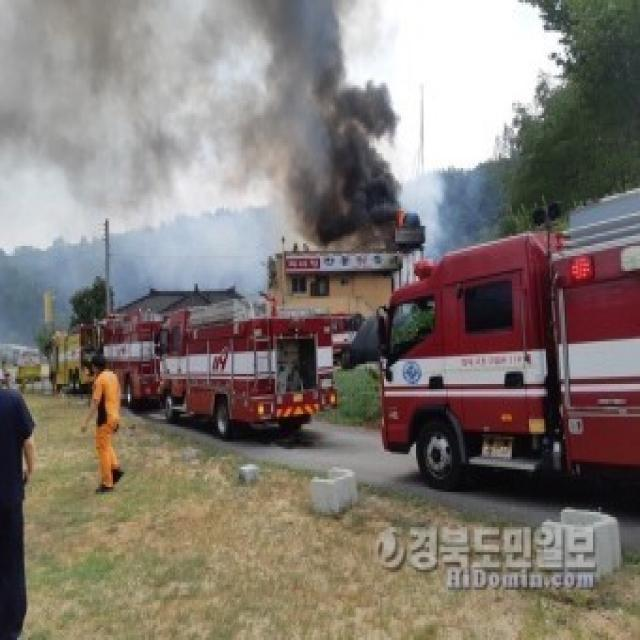Fire: (392, 208, 410, 230)
Smoke: (0, 2, 399, 221), (294, 1, 422, 240), (414, 163, 508, 264)
